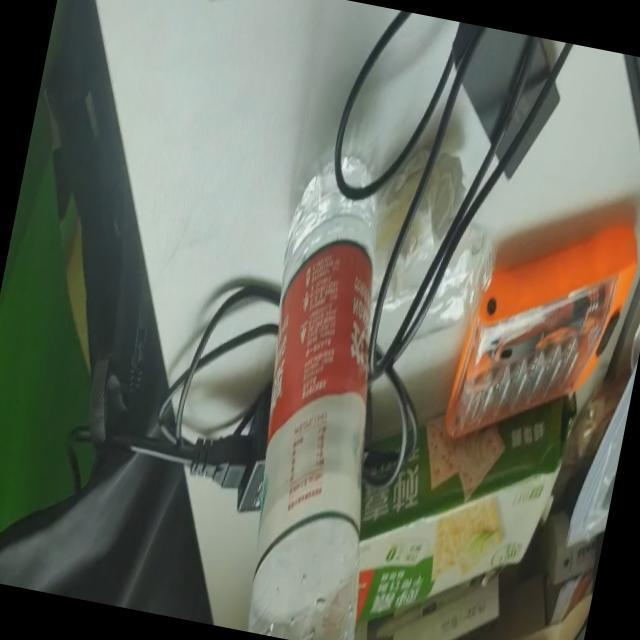good: (208, 137, 447, 640)
